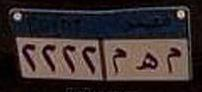2: (19, 40, 39, 73), (60, 43, 79, 76), (39, 41, 58, 74), (81, 43, 99, 76)
haa: (133, 46, 159, 76)
meem: (162, 45, 183, 75), (109, 46, 128, 77)
